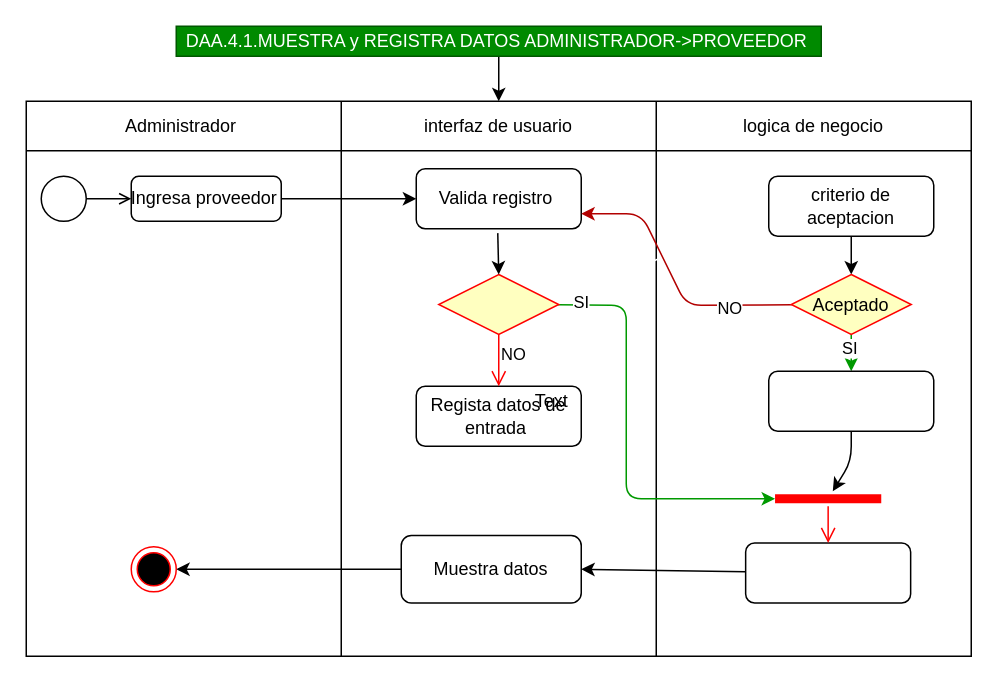
This 998x683 diagram has some shape labels left out. Each missing label, with the centre of its shape:
Almacena datos: the point at 850,400
Consulta datos: the point at 827,572
Existe: the point at 498,303
